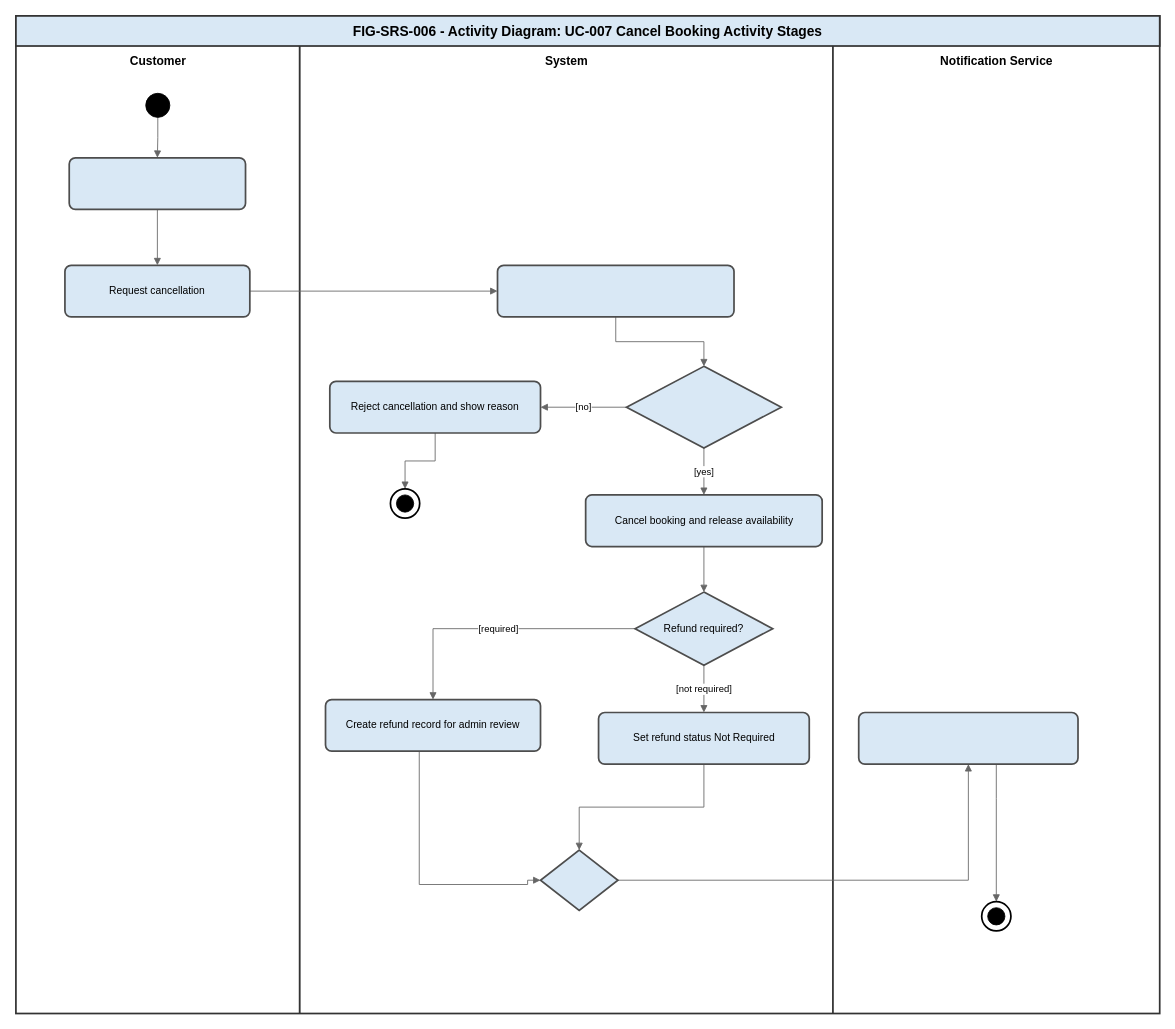
This 1175x1029 diagram has some shape labels left out. The centre of each missing label's shape, as x and y in pixels:
Cancellation allowed?: (x=703, y=406)
Record cancellation notification event: (x=967, y=738)
Validate ownership, status, and policy: (x=615, y=290)
View booking detail: (x=157, y=183)
